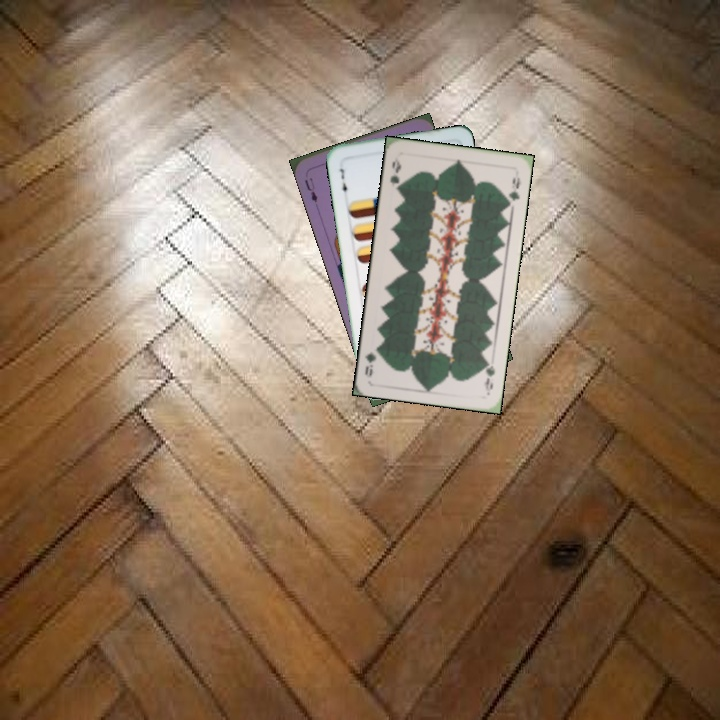E7: (336, 164, 350, 198)
EU: (300, 174, 320, 206)
G9: (386, 153, 404, 194), (480, 357, 497, 396)
